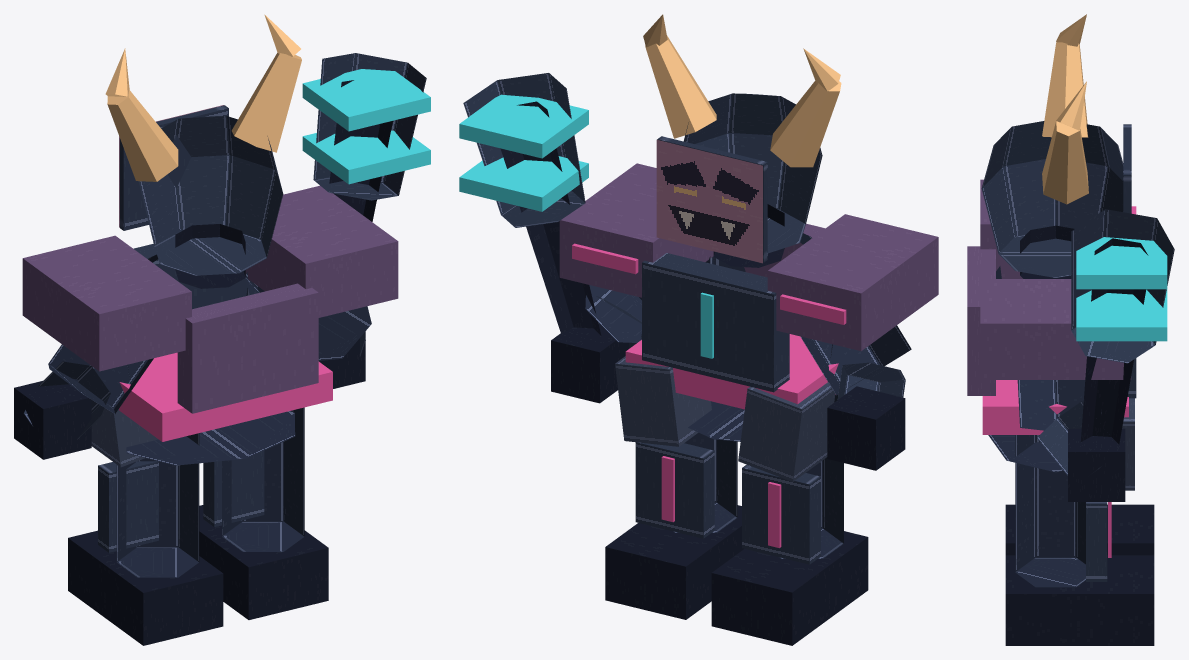
File: armored_oni.glb
3 views of the same model, side by side, from view 1: azimuth 30°, elevation 25°; view 2: azimuth 150°, elevation 25°; view 3: azimuth 270°, elevation 25° (orthographic). The views are drawn at different scales.
Parts seen in each view (by area): view 1: Arm_L_pauldron, Head_helmet, Root_back_plate, Arm_R_pauldron, Leg_L_boot, Leg_R_boot, Root_belt, Leg_L, Leg_R, Arm_R_kanabo_band.001, Arm_L_hand, Root_tunic (+17 smaller); view 2: Arm_L_pauldron, Root_chest_plate, Leg_L_boot, Head_painted_face, Leg_R_boot, Arm_R_pauldron, Head_helmet, Root_skirt_plate, Leg_R_shin, Leg_L_shin, Root_skirt_plate.001, Arm_L_hand (+22 smaller); view 3: Head_helmet, Leg_R_boot, Arm_R_pauldron, Leg_R, Arm_R_kanabo_head, Arm_R_kanabo_band, Arm_R_kanabo_band.001, Arm_R_hand, Arm_R_kanabo, Head_horn.001, Leg_L_boot, Root_back_plate (+12 smaller).
Part boxes in pixels (x1,y1,x2,y2): Arm_L_pauldron: (22, 235, 191, 371); Head_helmet: (138, 116, 283, 275); Root_back_plate: (177, 283, 318, 413); Arm_R_pauldron: (245, 185, 398, 317); Leg_L_boot: (68, 530, 223, 645); Leg_R_boot: (199, 505, 328, 619); Root_belt: (119, 352, 332, 441); Leg_L: (116, 433, 199, 577); Leg_R: (222, 407, 304, 551); Arm_R_kanabo_band.001: (302, 69, 430, 131); Arm_L_hand: (14, 381, 91, 459); Root_tunic: (126, 254, 295, 465); Arm_L_pauldron: (767, 214, 938, 351); Root_chest_plate: (642, 253, 789, 392); Leg_L_boot: (711, 531, 868, 645); Head_painted_face: (656, 140, 762, 263); Leg_R_boot: (605, 505, 743, 619); Arm_R_pauldron: (559, 163, 713, 297); Head_helmet: (683, 93, 822, 253); Root_skirt_plate: (738, 382, 835, 481); Leg_R_shin: (635, 442, 714, 538); Leg_L_shin: (742, 464, 820, 564); Root_skirt_plate.001: (615, 356, 711, 446); Arm_L_hand: (827, 386, 905, 470); Head_helmet: (981, 121, 1123, 277); Leg_R_boot: (1005, 555, 1154, 645); Arm_R_pauldron: (980, 279, 1131, 379); Leg_R: (1015, 435, 1085, 587); Arm_R_kanabo_head: (1071, 209, 1174, 363); Arm_R_kanabo_band: (1076, 289, 1167, 341); Arm_R_kanabo_band.001: (1076, 237, 1167, 289); Arm_R_hand: (1068, 428, 1125, 501); Arm_R_kanabo: (1080, 238, 1148, 444); Head_horn.001: (1042, 121, 1088, 204); Leg_L_boot: (1005, 504, 1154, 555); Root_back_plate: (967, 246, 995, 395).
Bounding box in the file's own units: 1.92 × 2.55 × 0.8657.
Materials: 1 (1 with a texture image).
